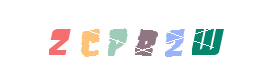2: (109, 0, 189, 80)
B: (107, 0, 187, 80)
C: (48, 0, 128, 80)
P: (88, 0, 168, 80)
W: (167, 0, 247, 80)
Z: (19, 0, 99, 80)
